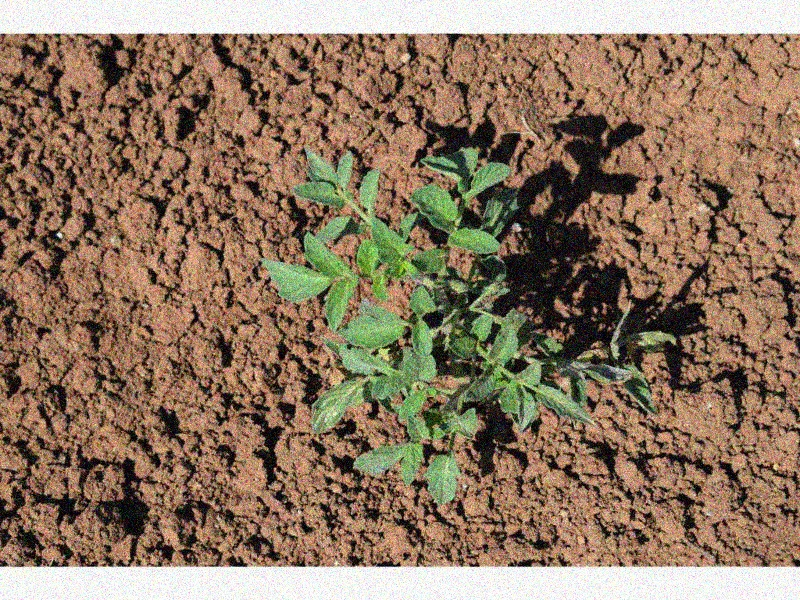tomato: (260, 142, 628, 502)
